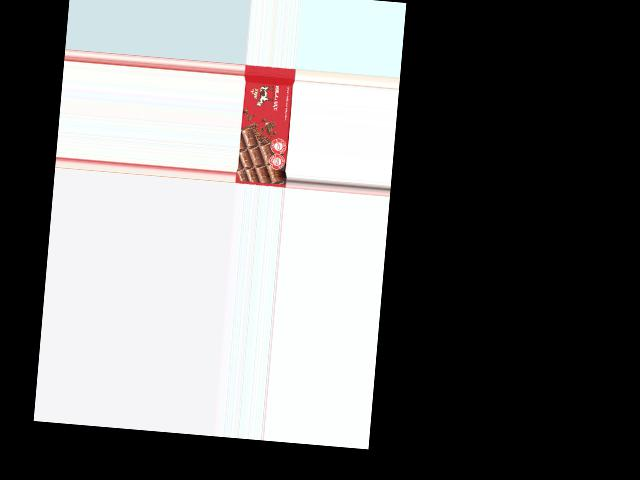chocolate: (236, 63, 296, 186)
